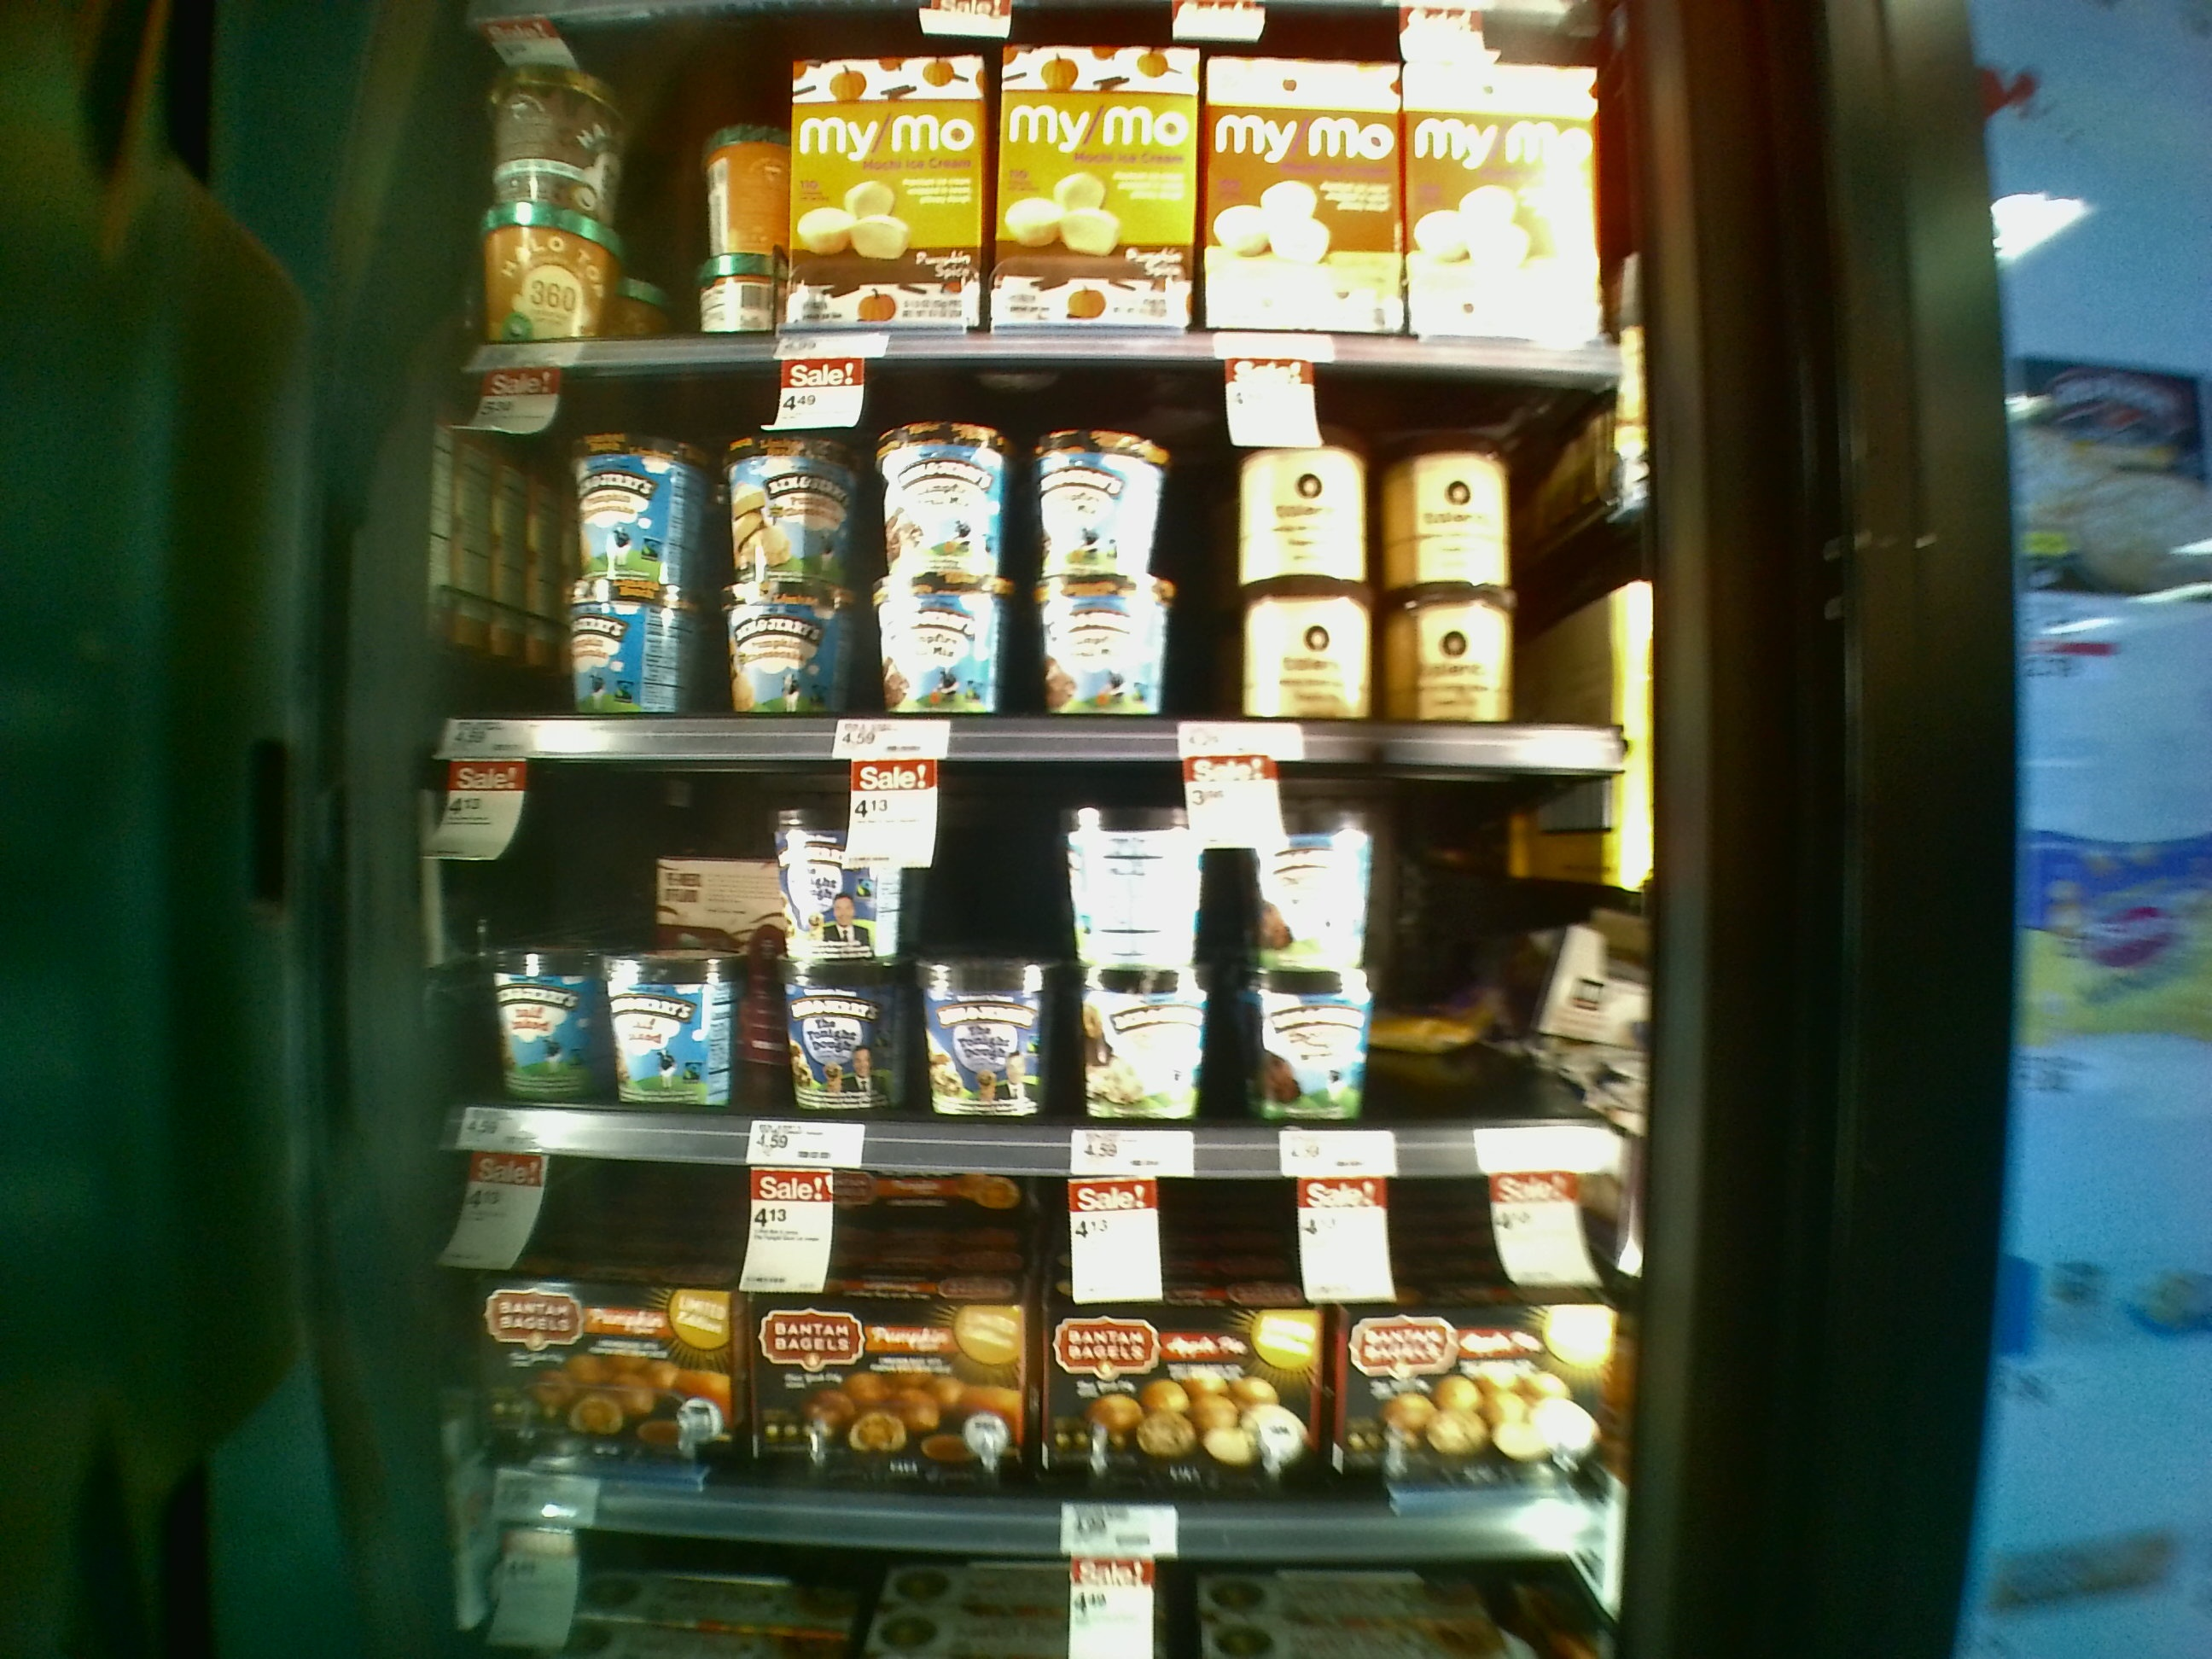shelf: (380, 765, 1656, 1176), (364, 1150, 1655, 1554), (392, 359, 1672, 765)
